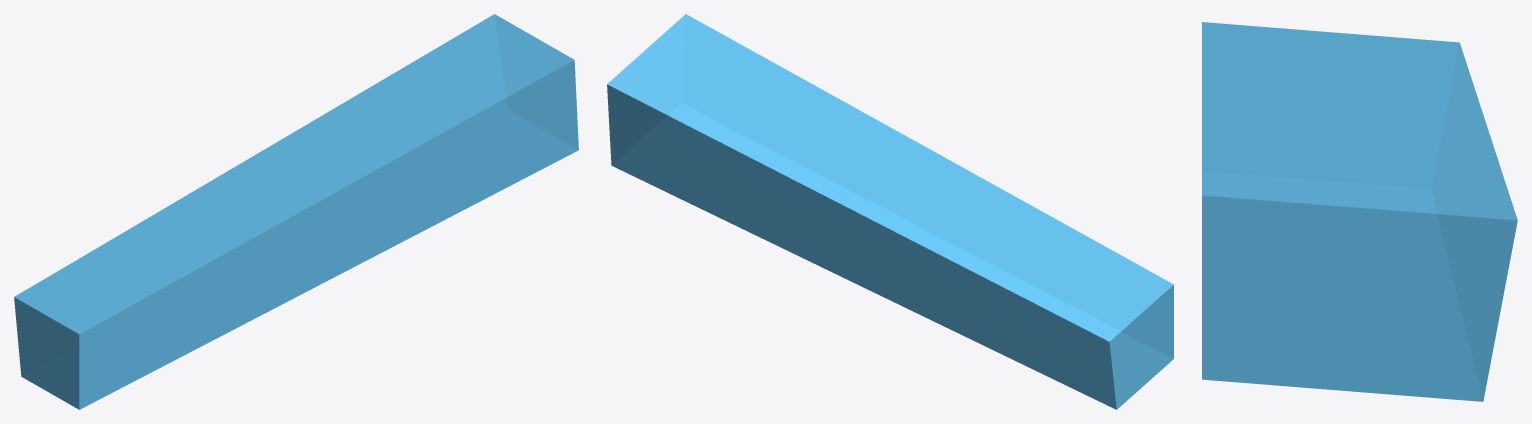
The model's file is Event_421556567_HErechit_30.fbx.
3 views of the same model, side by side, from view 1: azimuth 30°, elevation 25°; view 2: azimuth 150°, elevation 25°; view 3: azimuth 270°, elevation 25° (orthographic). The views are drawn at different scales.
Parts seen in each view (by area): view 1: Model; view 2: Model; view 3: Model.
Boxes of the visible parts, box(x1,y1,x2,y2) form: Model: box(14, 14, 578, 409); Model: box(607, 14, 1173, 409); Model: box(1202, 22, 1517, 401).
Size of the model in its own units: 2.31 by 1.05 by 0.6418.
